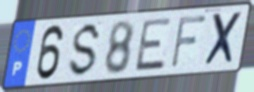6: (34, 24, 65, 82)
8: (102, 19, 135, 76)
E: (133, 16, 174, 74)
F: (169, 13, 209, 71)
S: (66, 20, 104, 79)
X: (202, 10, 244, 69)
